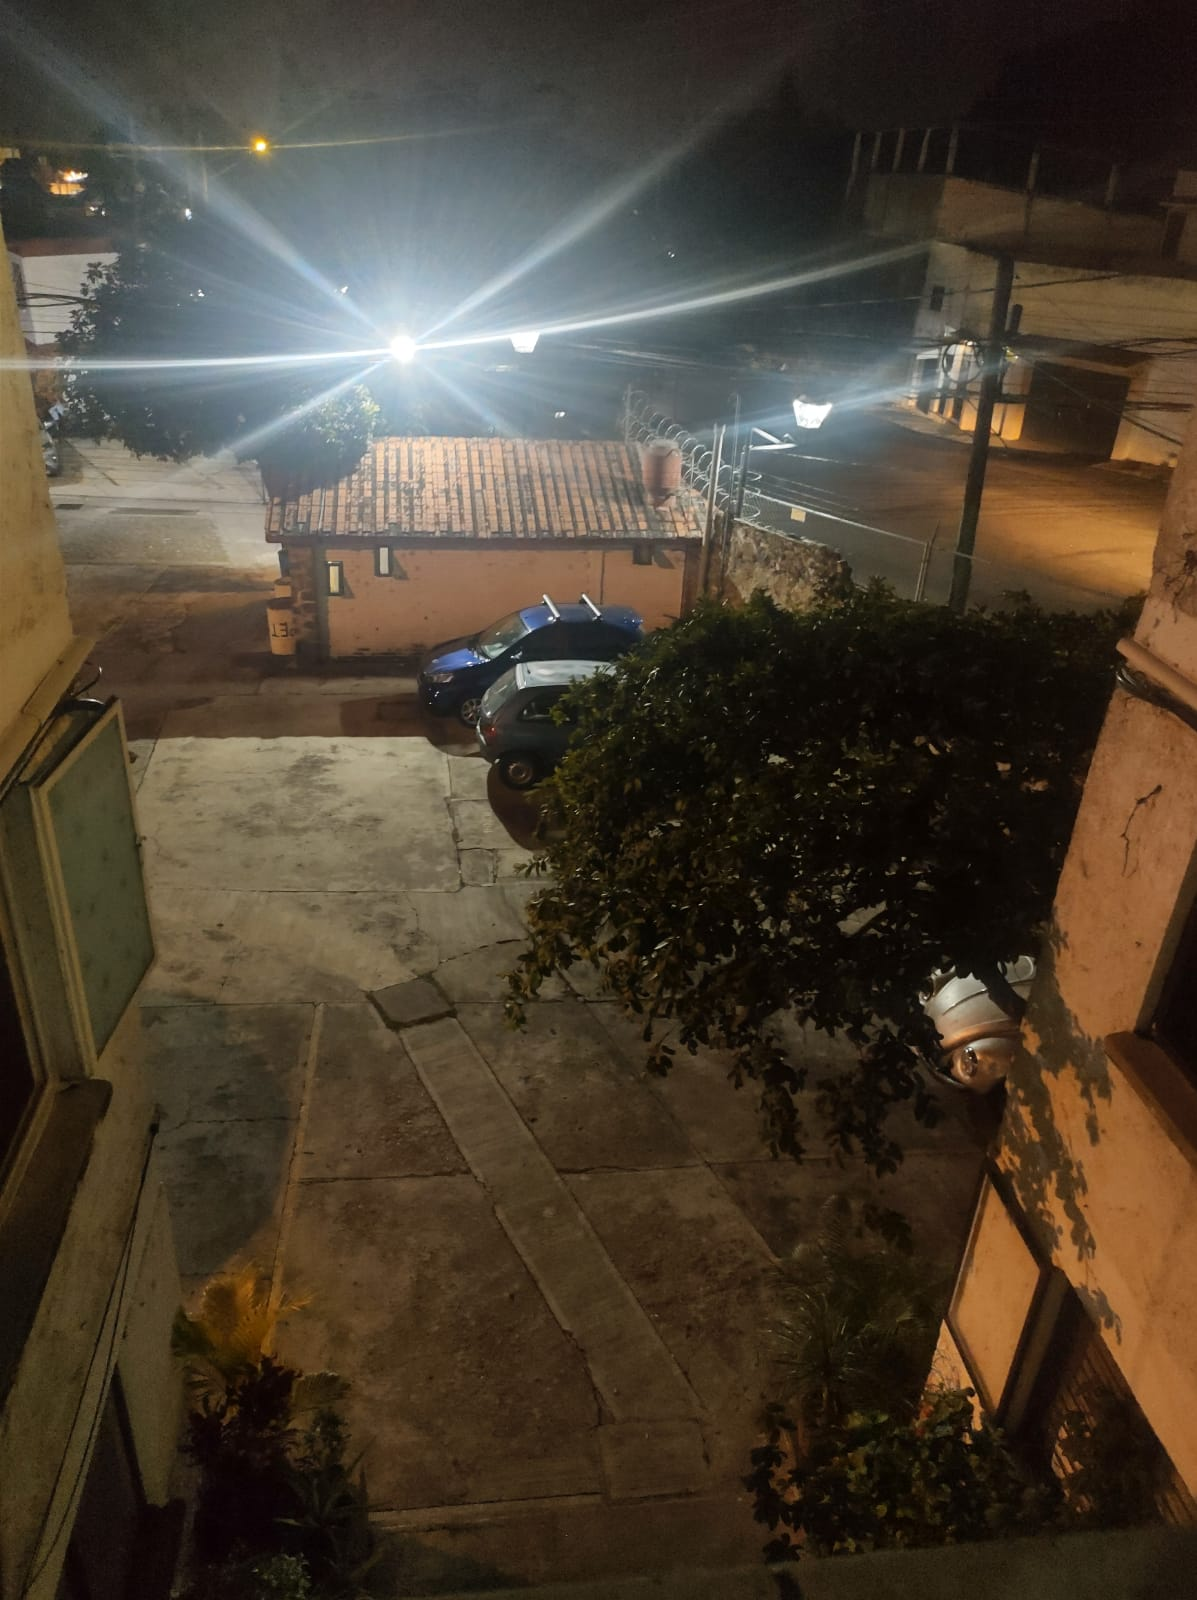Auto: (417, 592, 684, 729), (474, 665, 702, 787)
